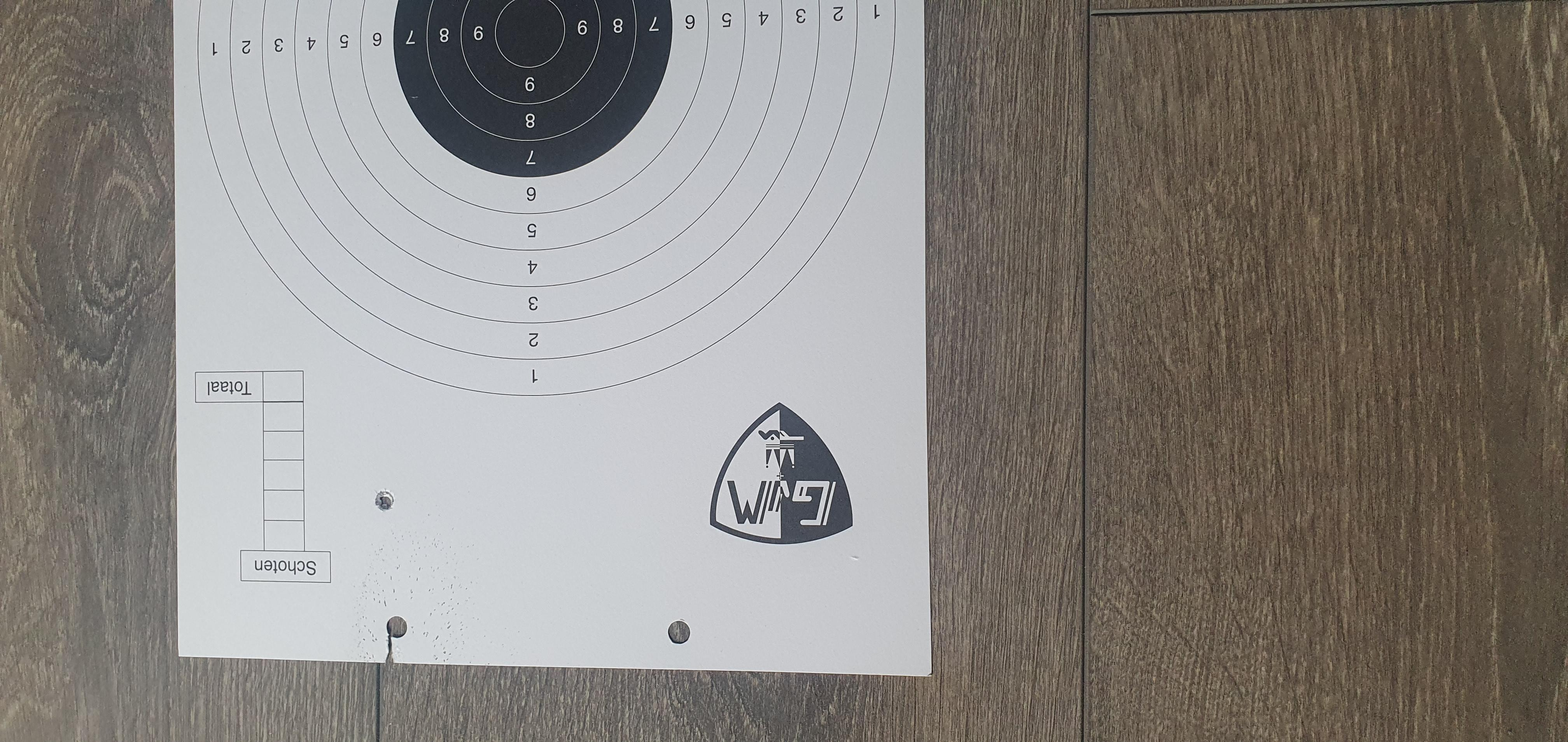hole: (486, 175, 534, 188)
